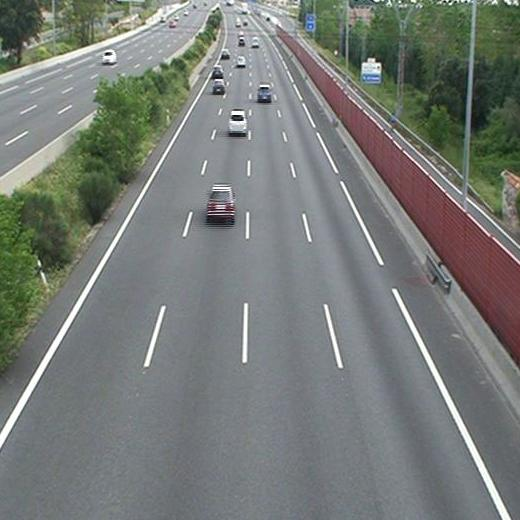car: (207, 187, 233, 216), (229, 110, 246, 132), (258, 85, 271, 100), (213, 78, 224, 94), (236, 56, 247, 66), (211, 66, 221, 77), (221, 50, 230, 58)
